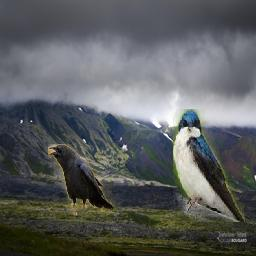Crow: (48, 145, 114, 216)
Swallow: (173, 110, 245, 223)
